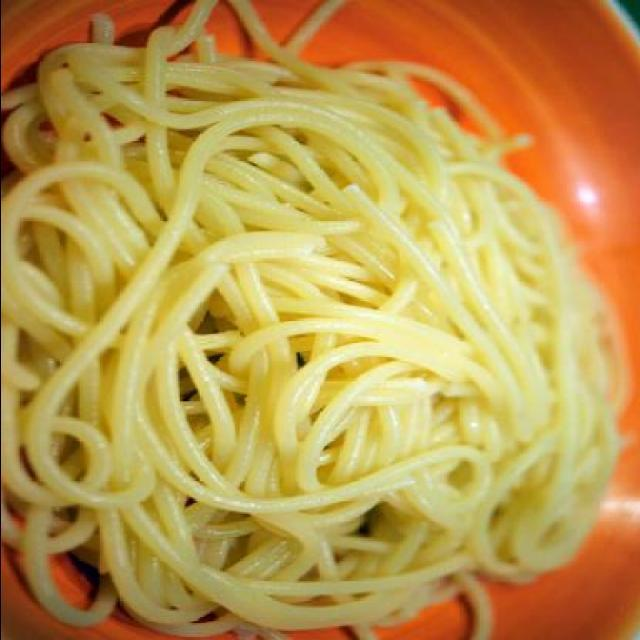Oil pasta: (2, 28, 606, 640)
